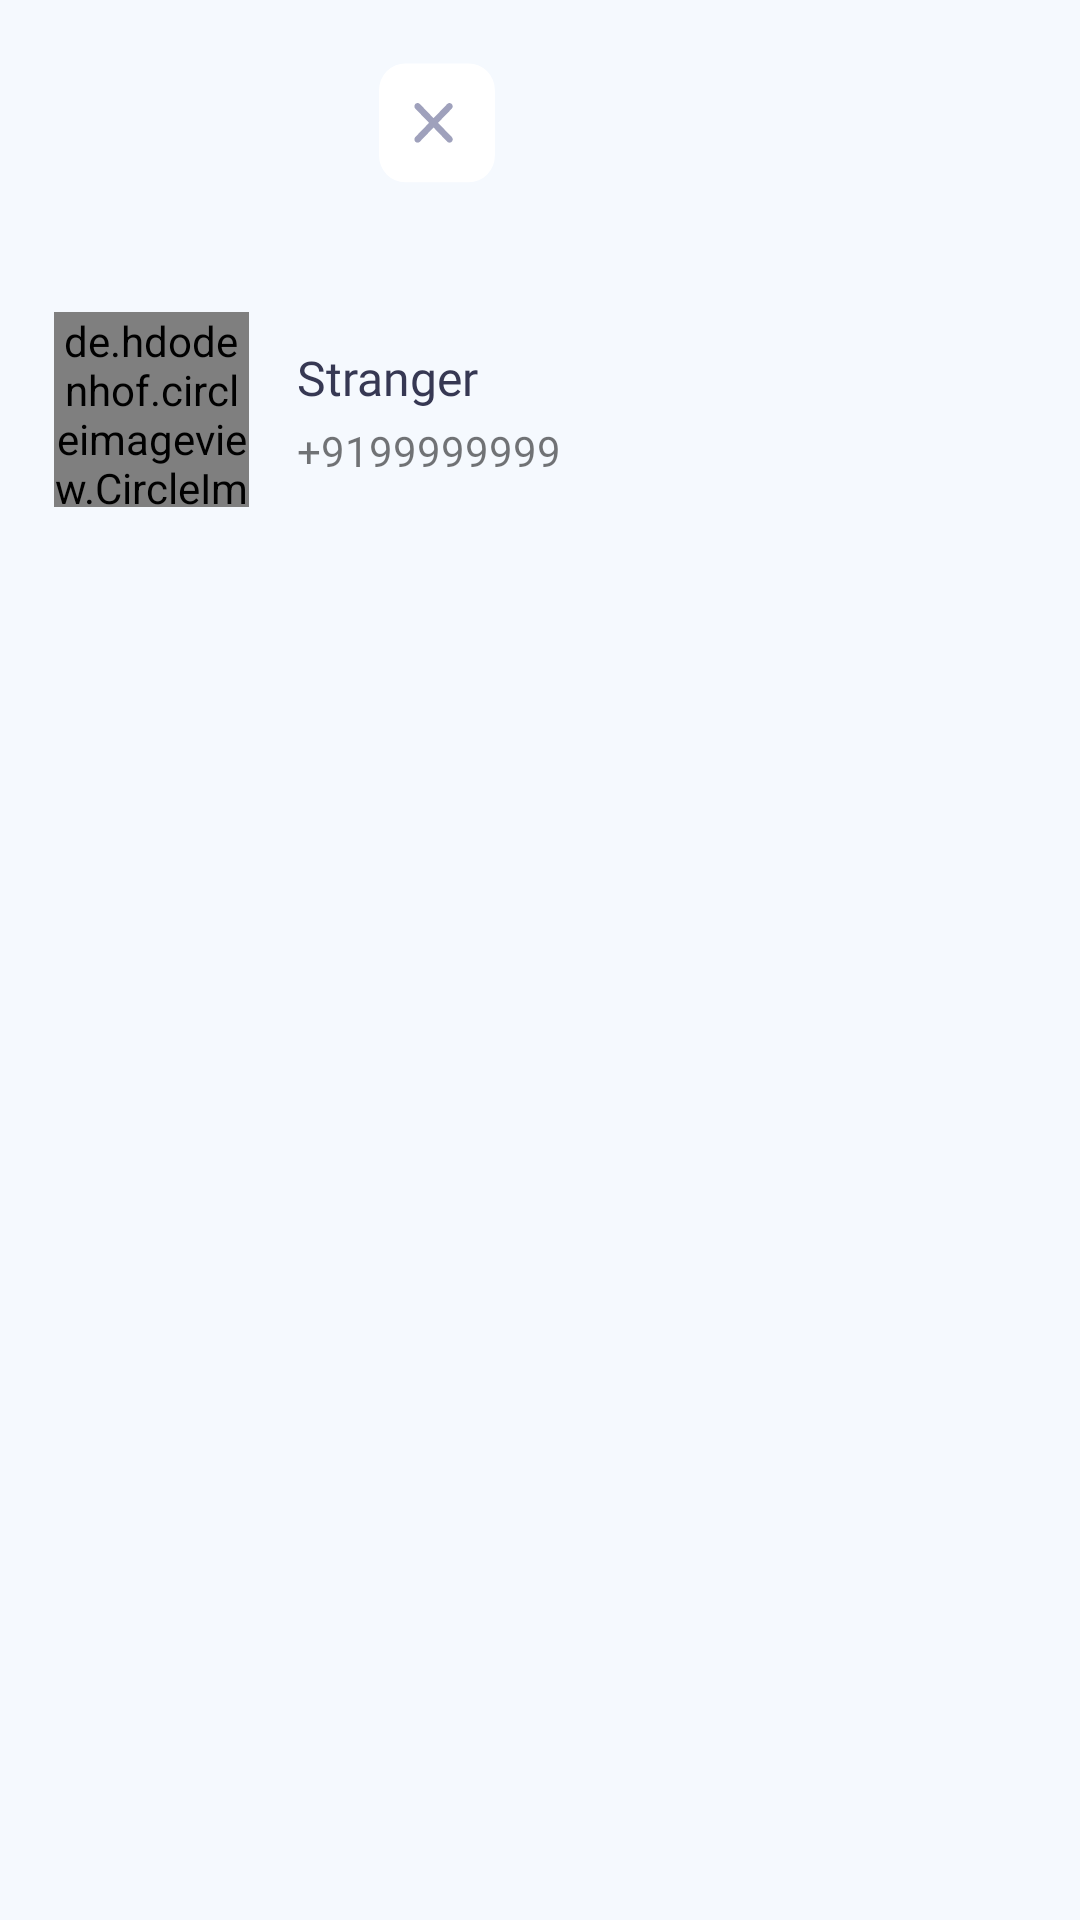

Icon bounding boxes for this 1080px x 1920px phone screenshot, format (x1, y1, x2, y2):
close: (379, 64, 495, 182)
